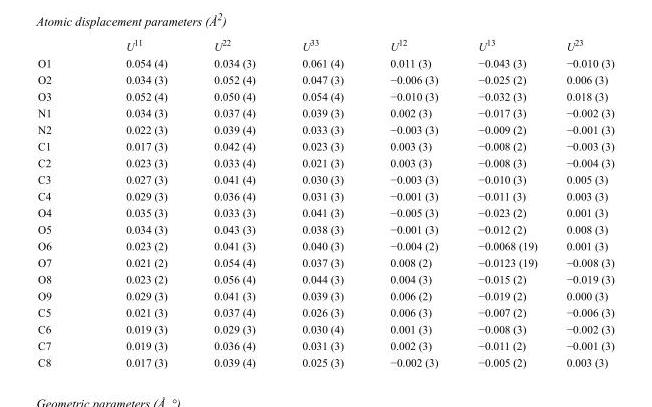table: (37, 36, 613, 368)
table column: (88, 36, 190, 368), (457, 36, 551, 368), (366, 36, 457, 368), (190, 36, 278, 368), (278, 36, 366, 368), (551, 36, 613, 368), (37, 36, 88, 368)
table column header: (37, 36, 613, 54)
table row: (37, 36, 613, 54), (37, 70, 613, 87), (37, 87, 613, 104), (37, 120, 613, 137), (37, 137, 613, 154), (37, 170, 613, 187), (37, 203, 613, 220), (37, 220, 613, 237), (37, 253, 613, 270), (37, 270, 613, 287), (37, 303, 613, 320), (37, 336, 613, 353), (37, 54, 613, 70), (37, 104, 613, 120), (37, 154, 613, 170), (37, 187, 613, 203), (37, 237, 613, 253), (37, 287, 613, 303), (37, 320, 613, 336), (37, 353, 613, 368)
